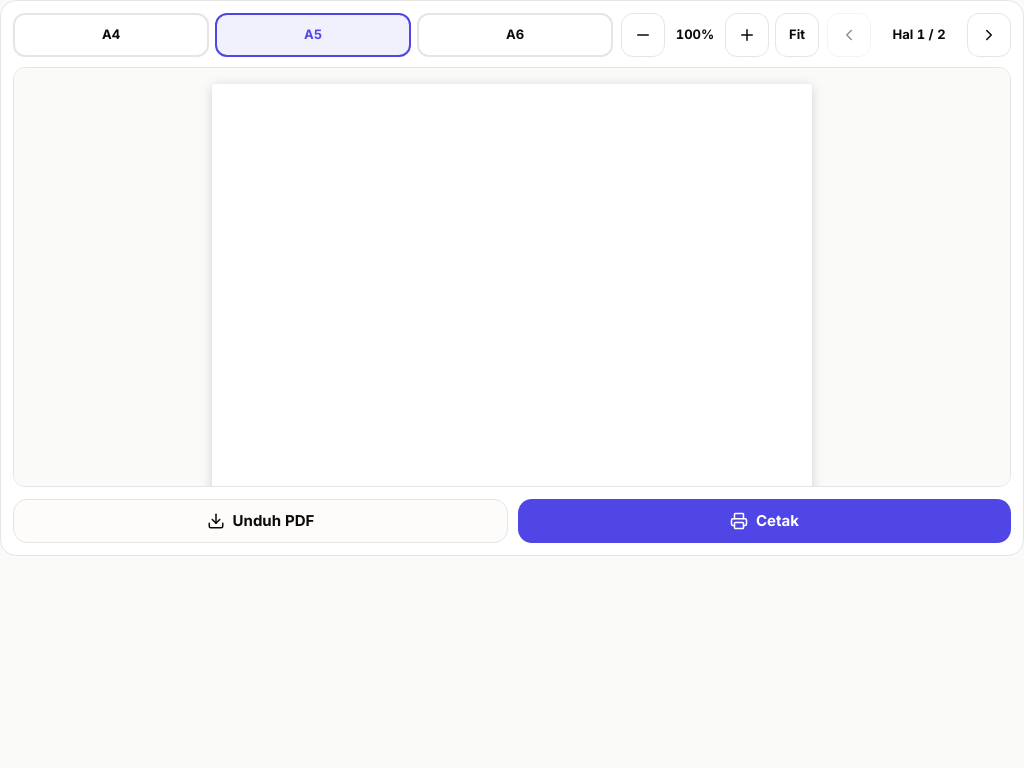
Test: PdfPreviewPanel › navigasi halaman mengubah label dan menghormati batas
Expected: the text "Hal 1 / 2" is shown, x1=892 y1=26 x2=946 y2=42
Click the button named "Halaman berikutnya". click: click(989, 35)
box: x1=967 y1=13 x2=1011 y2=57
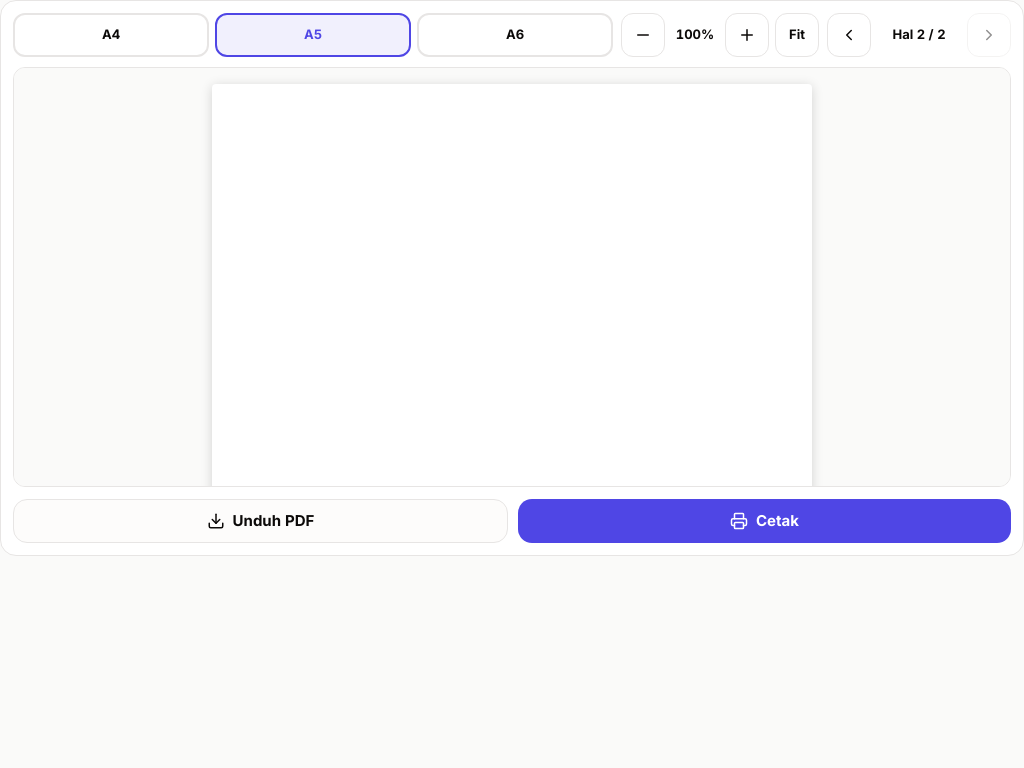
Now the text "Hal 2 / 2" is shown, box x1=892 y1=26 x2=946 y2=42
Click the button named "Halaman sebelumnya". click: click(849, 35)
box: x1=827 y1=13 x2=871 y2=57
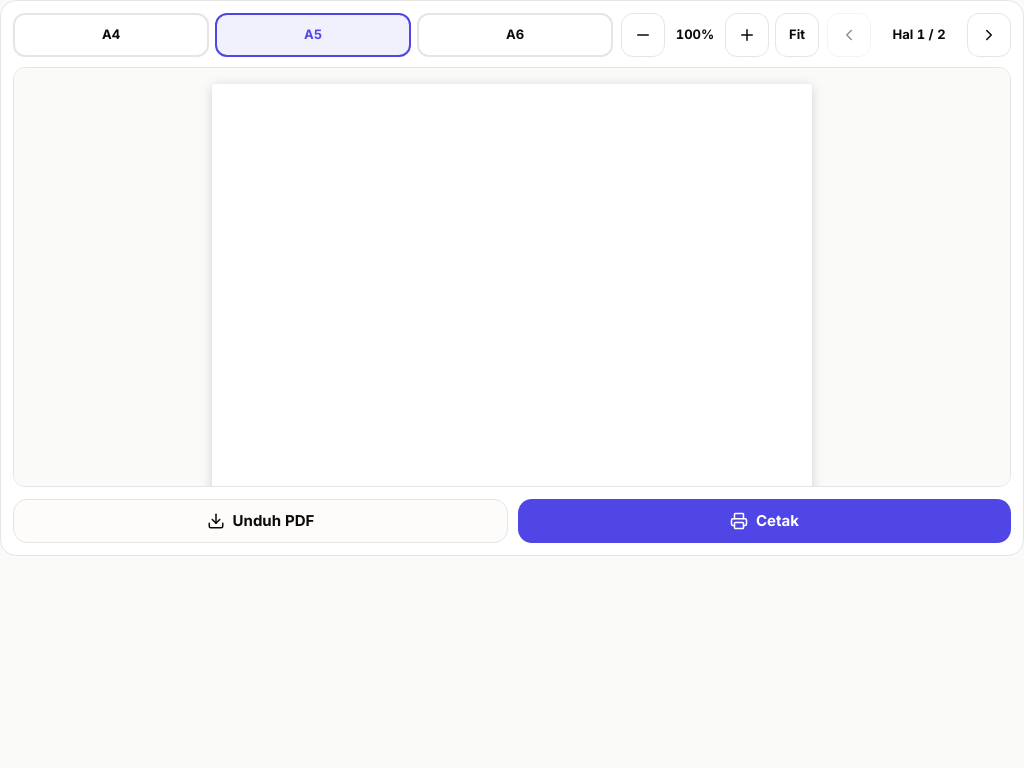
Now the text "Hal 1 / 2" is shown, box x1=892 y1=26 x2=946 y2=42
